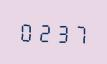seven: (69, 20, 85, 45)
three: (52, 19, 68, 44)
two: (35, 19, 51, 43)
zero: (18, 18, 34, 43)
